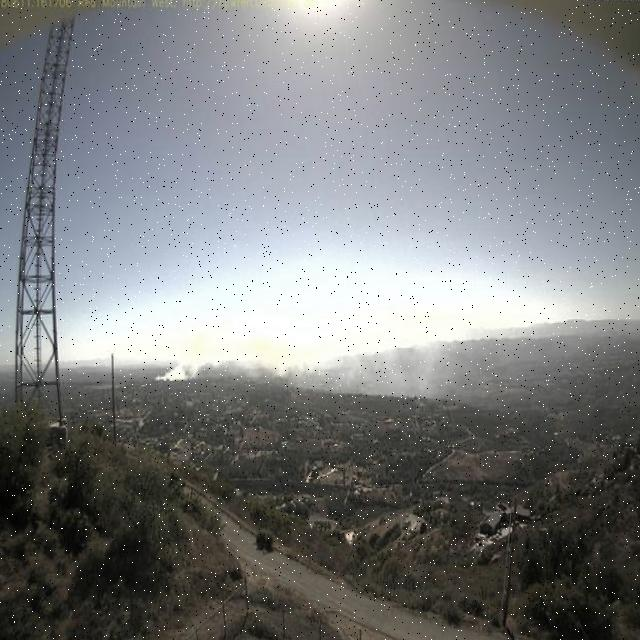smoke: (158, 333, 436, 391)
